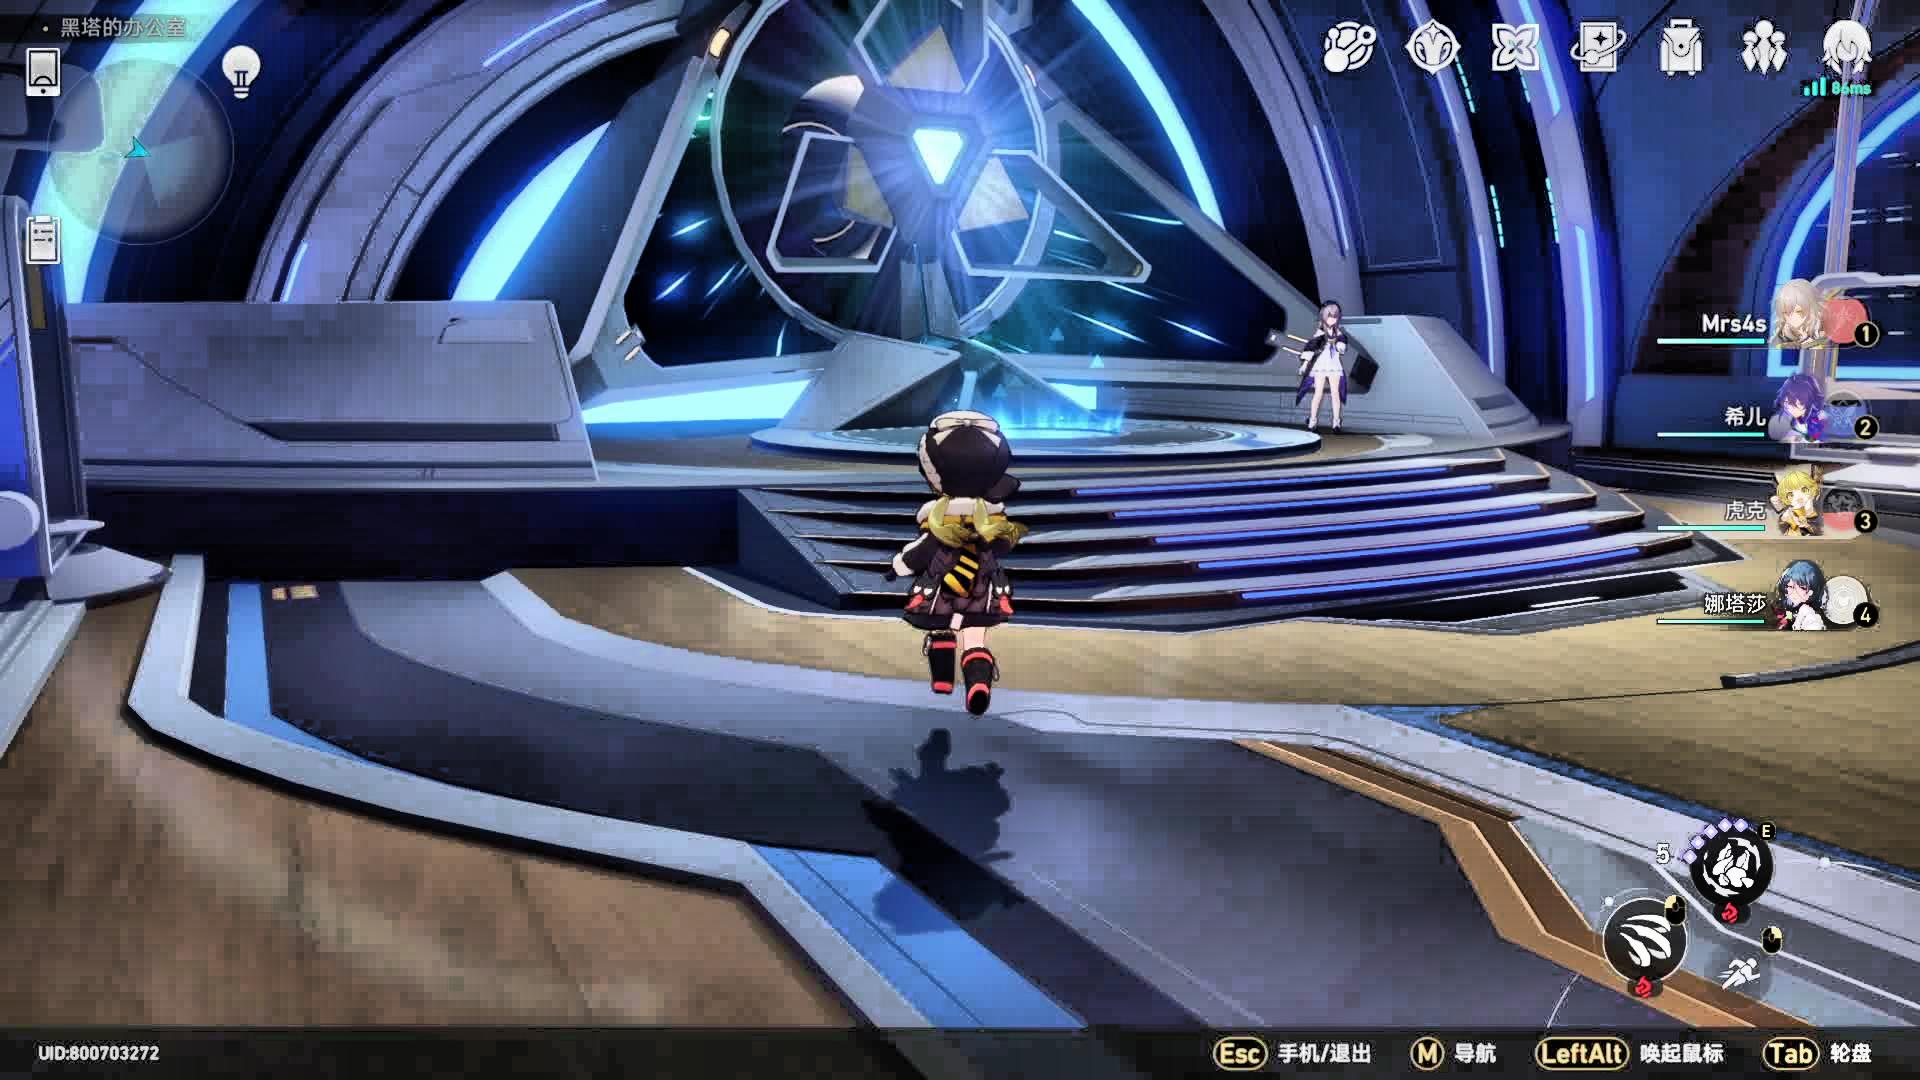Self: (884, 407, 1025, 716)
TeamMate: (1292, 301, 1352, 431)
